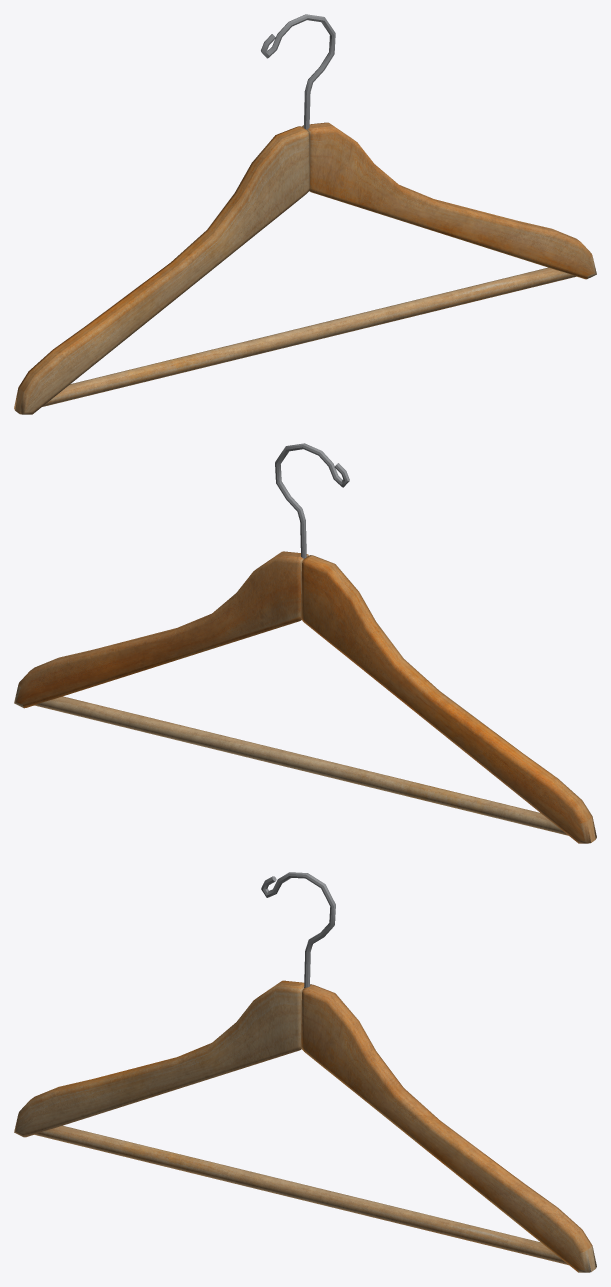
File: ClothesHanger.fbx
3 renders of one model, top to bottom at view 1: azimuth 30°, elevation 25°; view 2: azimuth 150°, elevation 25°; view 3: azimuth 330°, elevation 25°, orthographic.
Parts seen in each view (by area): view 1: WoodHanger_UNWRAPED; view 2: WoodHanger_UNWRAPED; view 3: WoodHanger_UNWRAPED.
Part boxes in pixels (x1,y1,x2,y2): WoodHanger_UNWRAPED: [14, 14, 596, 414]; WoodHanger_UNWRAPED: [14, 443, 596, 843]; WoodHanger_UNWRAPED: [14, 872, 596, 1272].
Bounding box in the file's own units: 7797 × 4272 × 232.
Materials: 1 (1 with a texture image).
